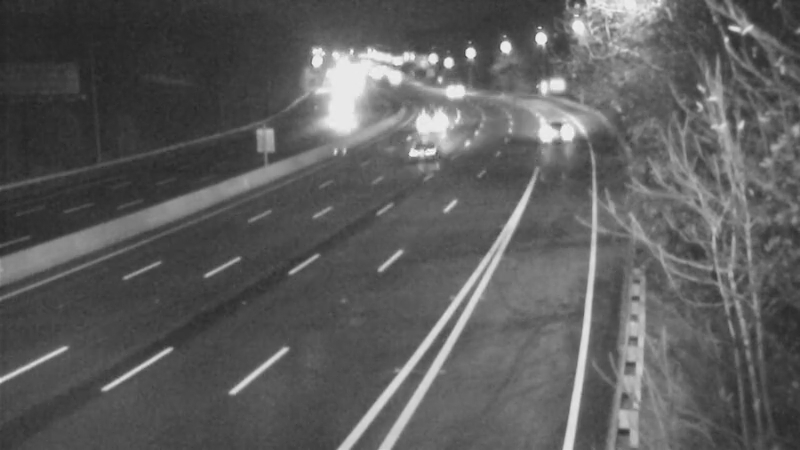vehicle: (427, 61, 477, 111), (521, 101, 571, 151), (404, 91, 454, 141), (403, 124, 453, 174), (313, 92, 363, 142)
